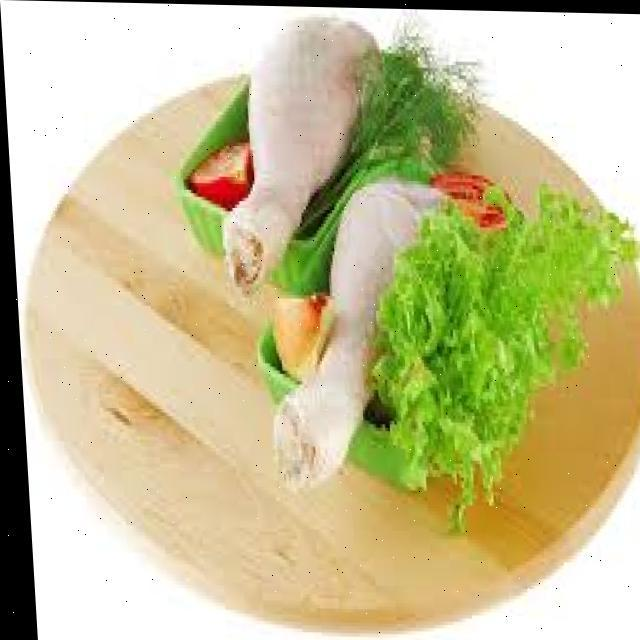leg: (268, 172, 452, 488), (218, 12, 380, 294)
